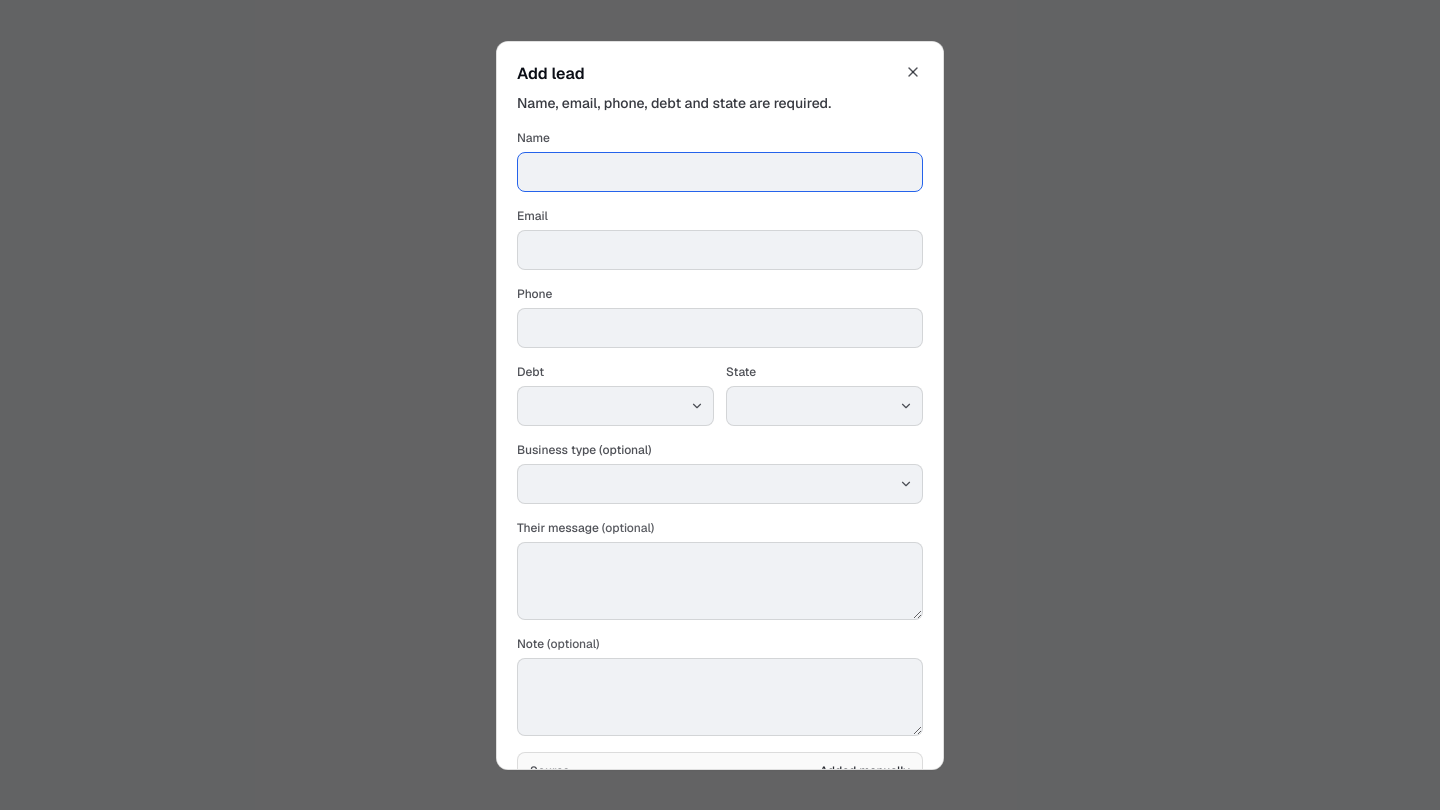
Scenario: AddLeadDialog — an email that already has a lead › does not add unchecked when the check fails
Step 1. Type "Test Person" into the field labelled "Name" → (720, 172), box top-left (517, 152), bottom-right (923, 192)
Step 2. Type "test.person@example.test" into the field labelled "Email" → (720, 250), box top-left (517, 230), bottom-right (923, 270)
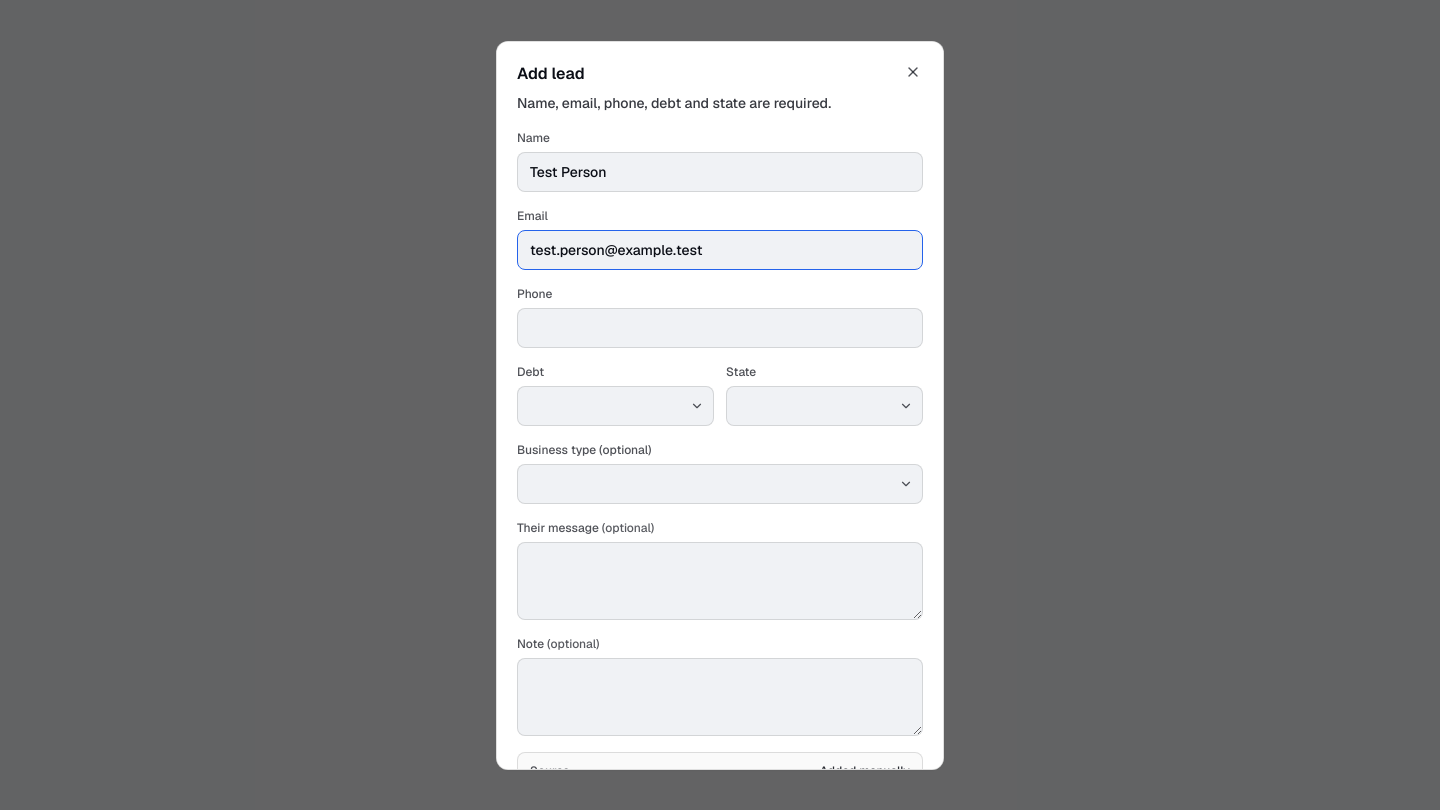
Step 3. Type "0400 000 001" into the field labelled "Phone" → (720, 328), box top-left (517, 308), bottom-right (923, 348)
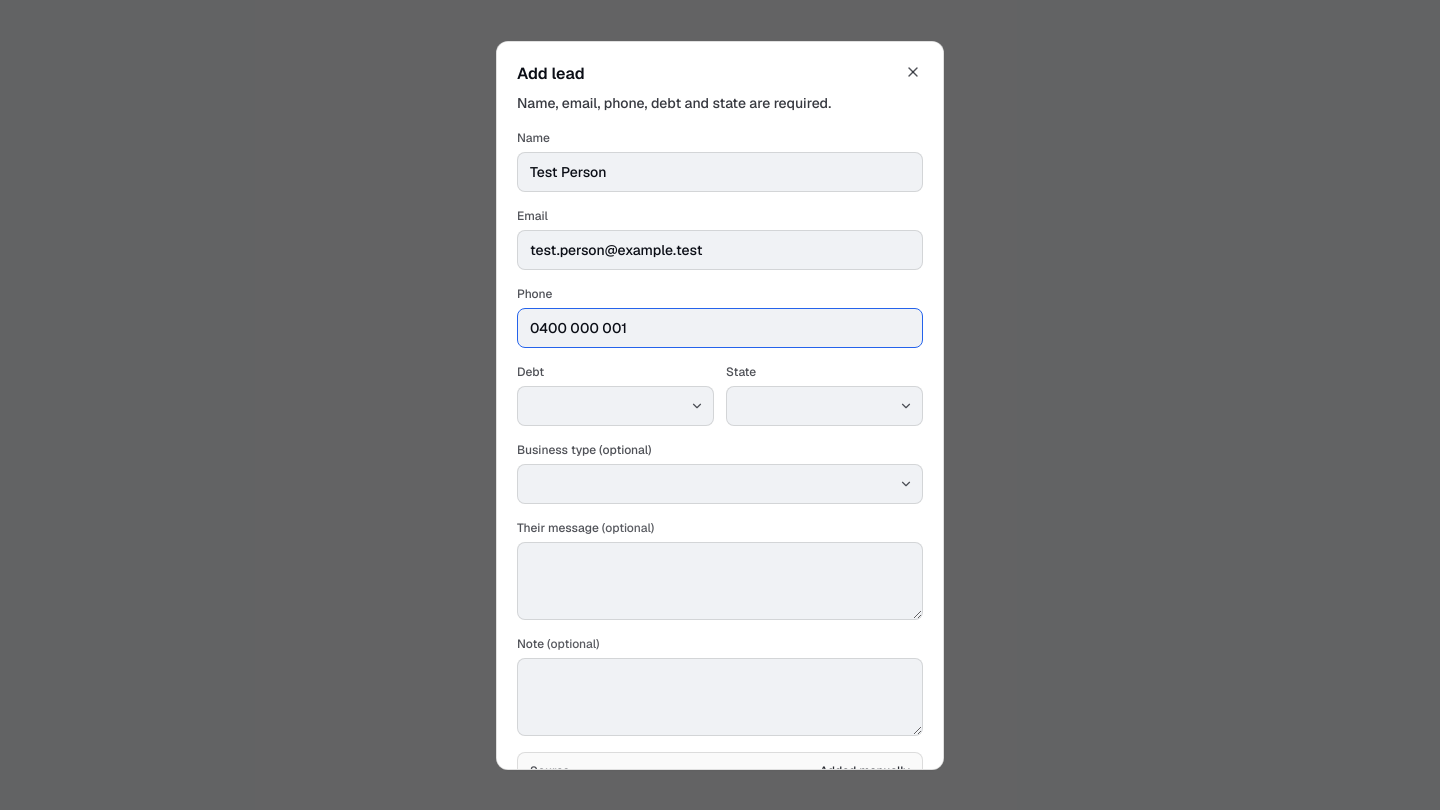
Step 4. Select "$150k – $250k" in the dropdown labelled "Debt" → (616, 406), box top-left (517, 386), bottom-right (714, 426)
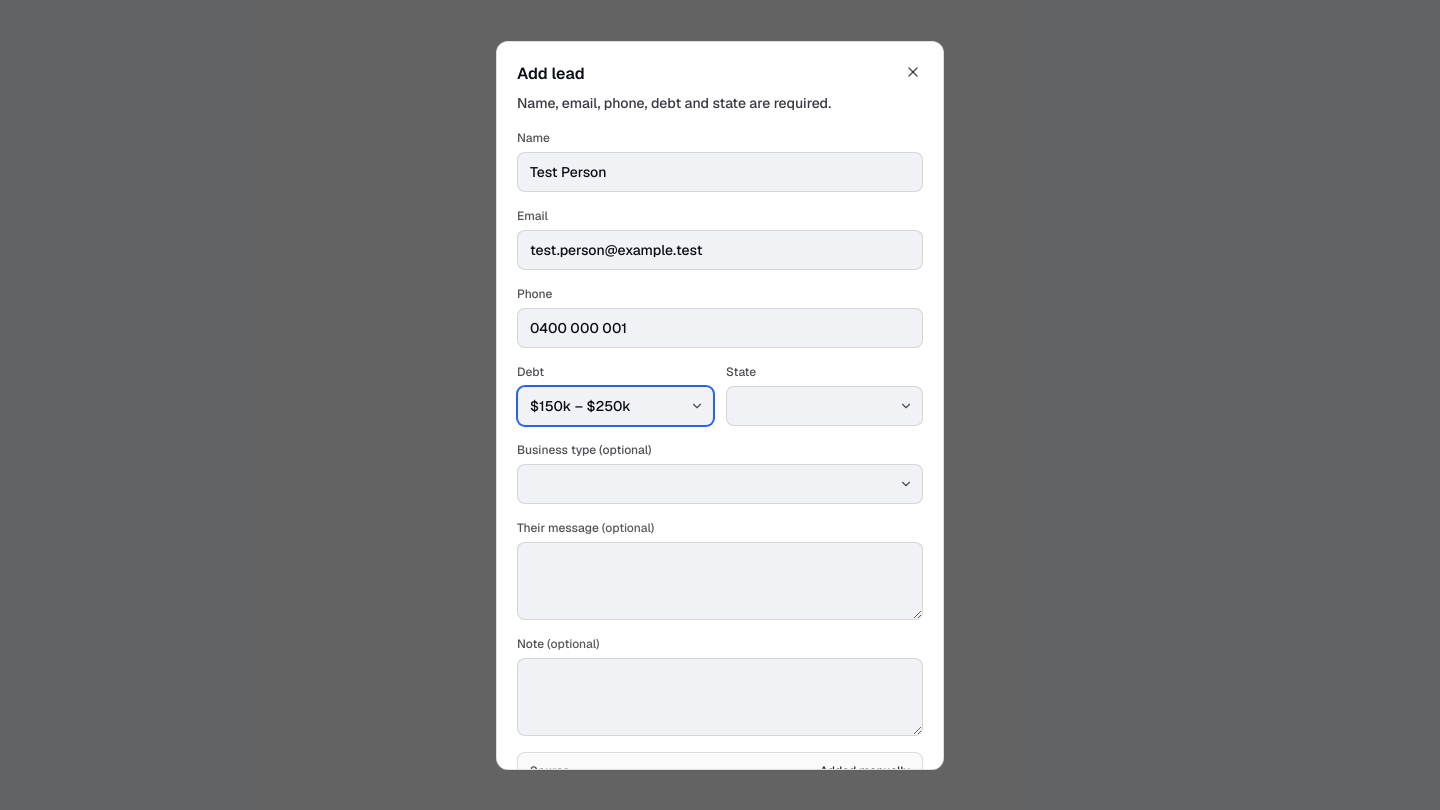
Step 5. Click the button named "State" → (824, 406), box top-left (726, 386), bottom-right (923, 426)
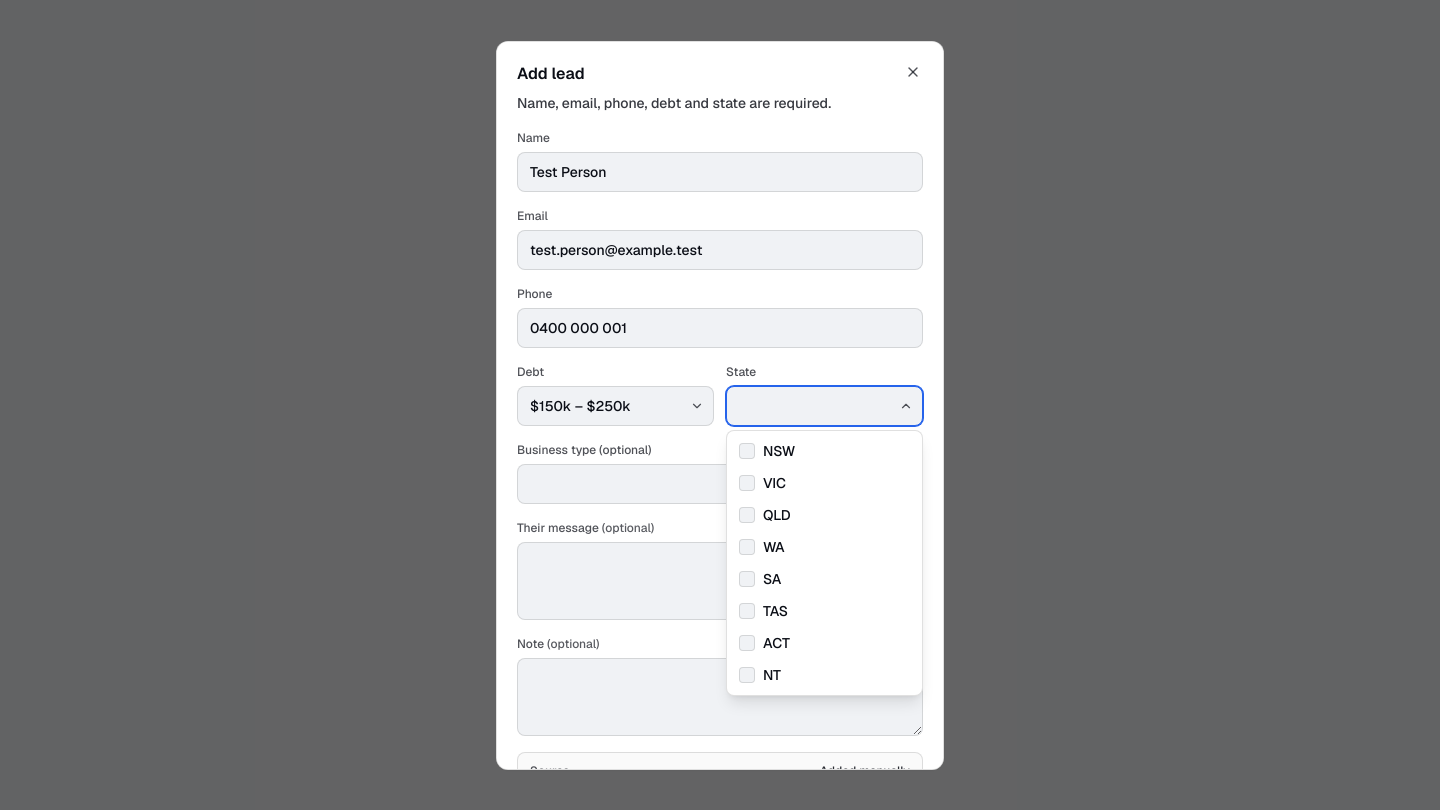
Step 6. Click the checkbox labelled "NSW" → (767, 451), box top-left (739, 442), bottom-right (795, 460)
(page scrolled)
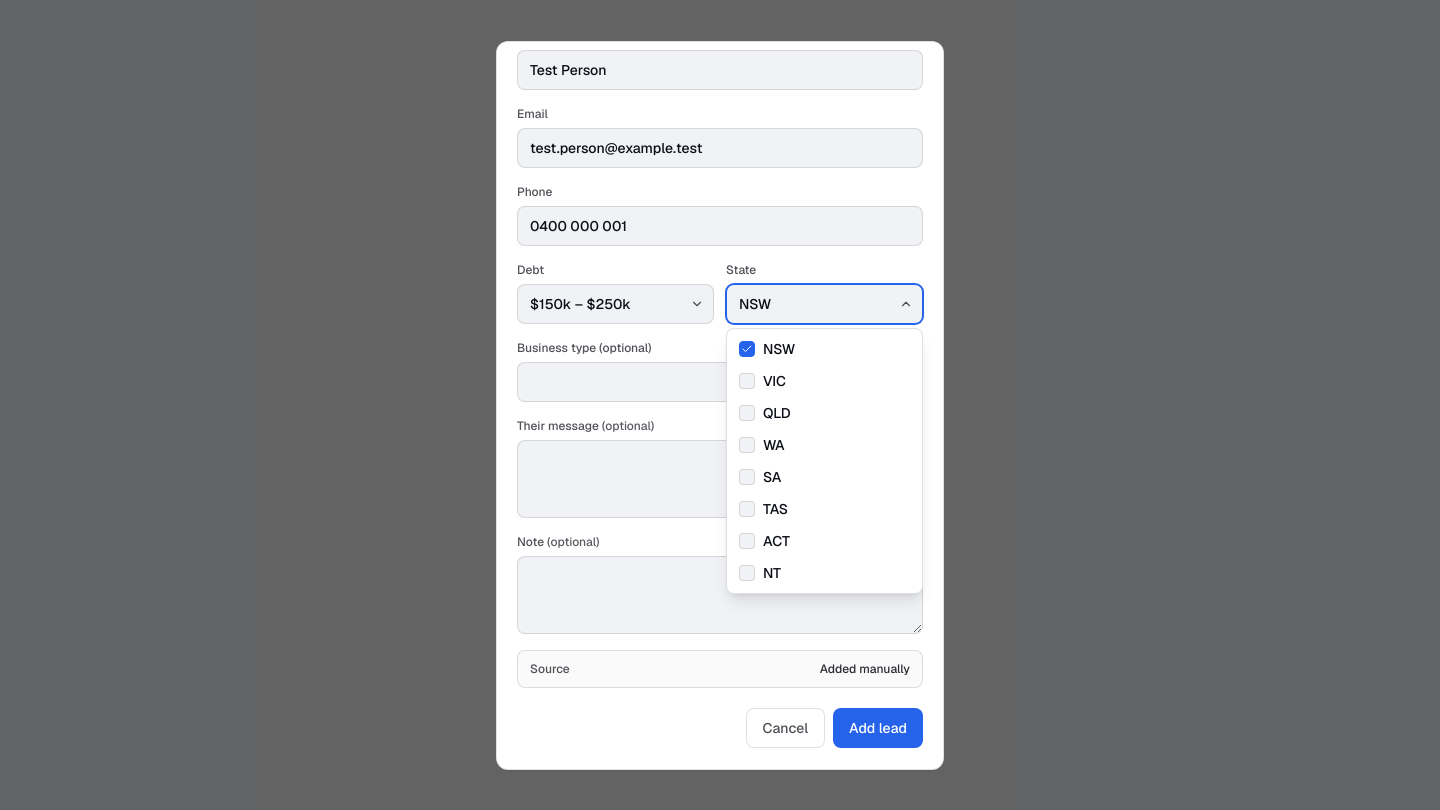
Step 7. Click the button "Add lead" → (878, 728), box top-left (833, 708), bottom-right (923, 748)
(page scrolled)
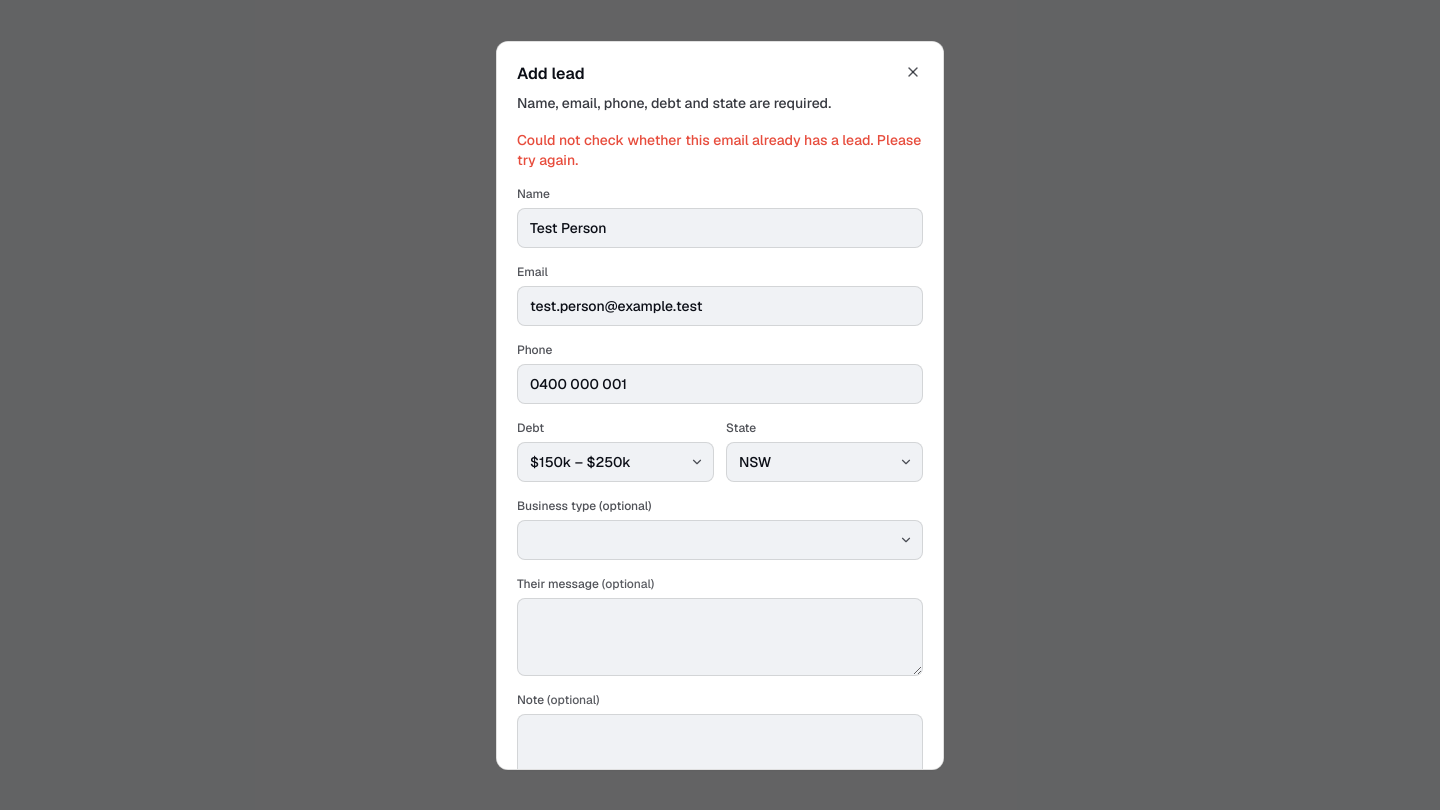
Expected: the text "Could not check whether this email already has a lead. Please try again." is shown, top-left (517, 130), bottom-right (923, 170)
